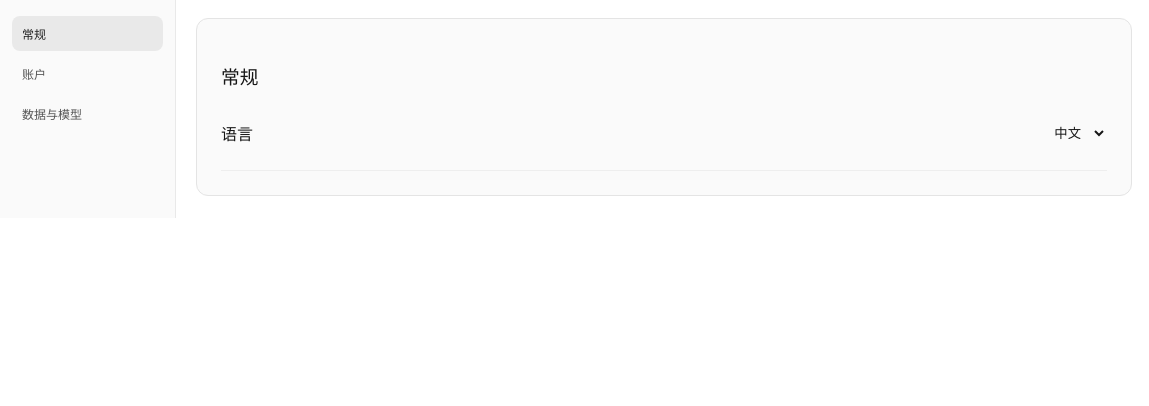
Test: Cloud account settings › shows scoped partial models and safe names rather than internal keys
Click the button "数据与模型": (88, 114) [12,96,163,131]
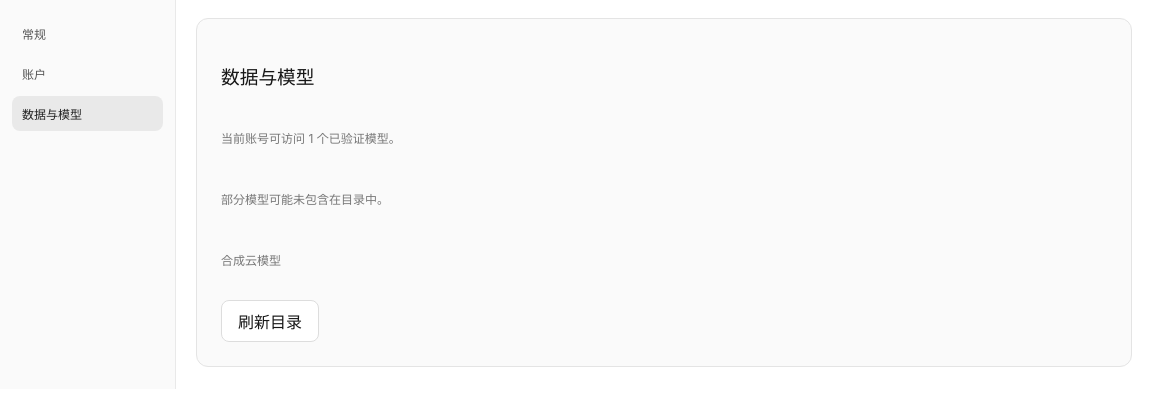
expect the text "合成云模型" is shown: met, box [221,251,281,268]
expect the text "部分模型可能未包含在目录中。" is shown: met, box [221,190,389,207]
